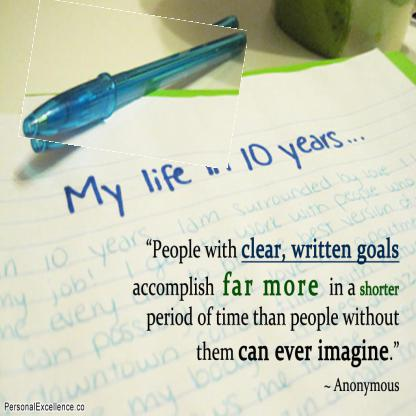Pen: (23, 5, 244, 161)
